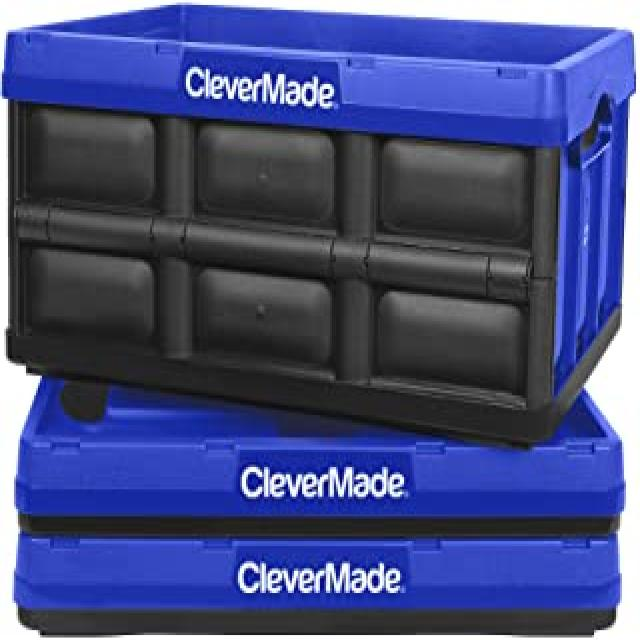basket: (2, 4, 639, 633)
